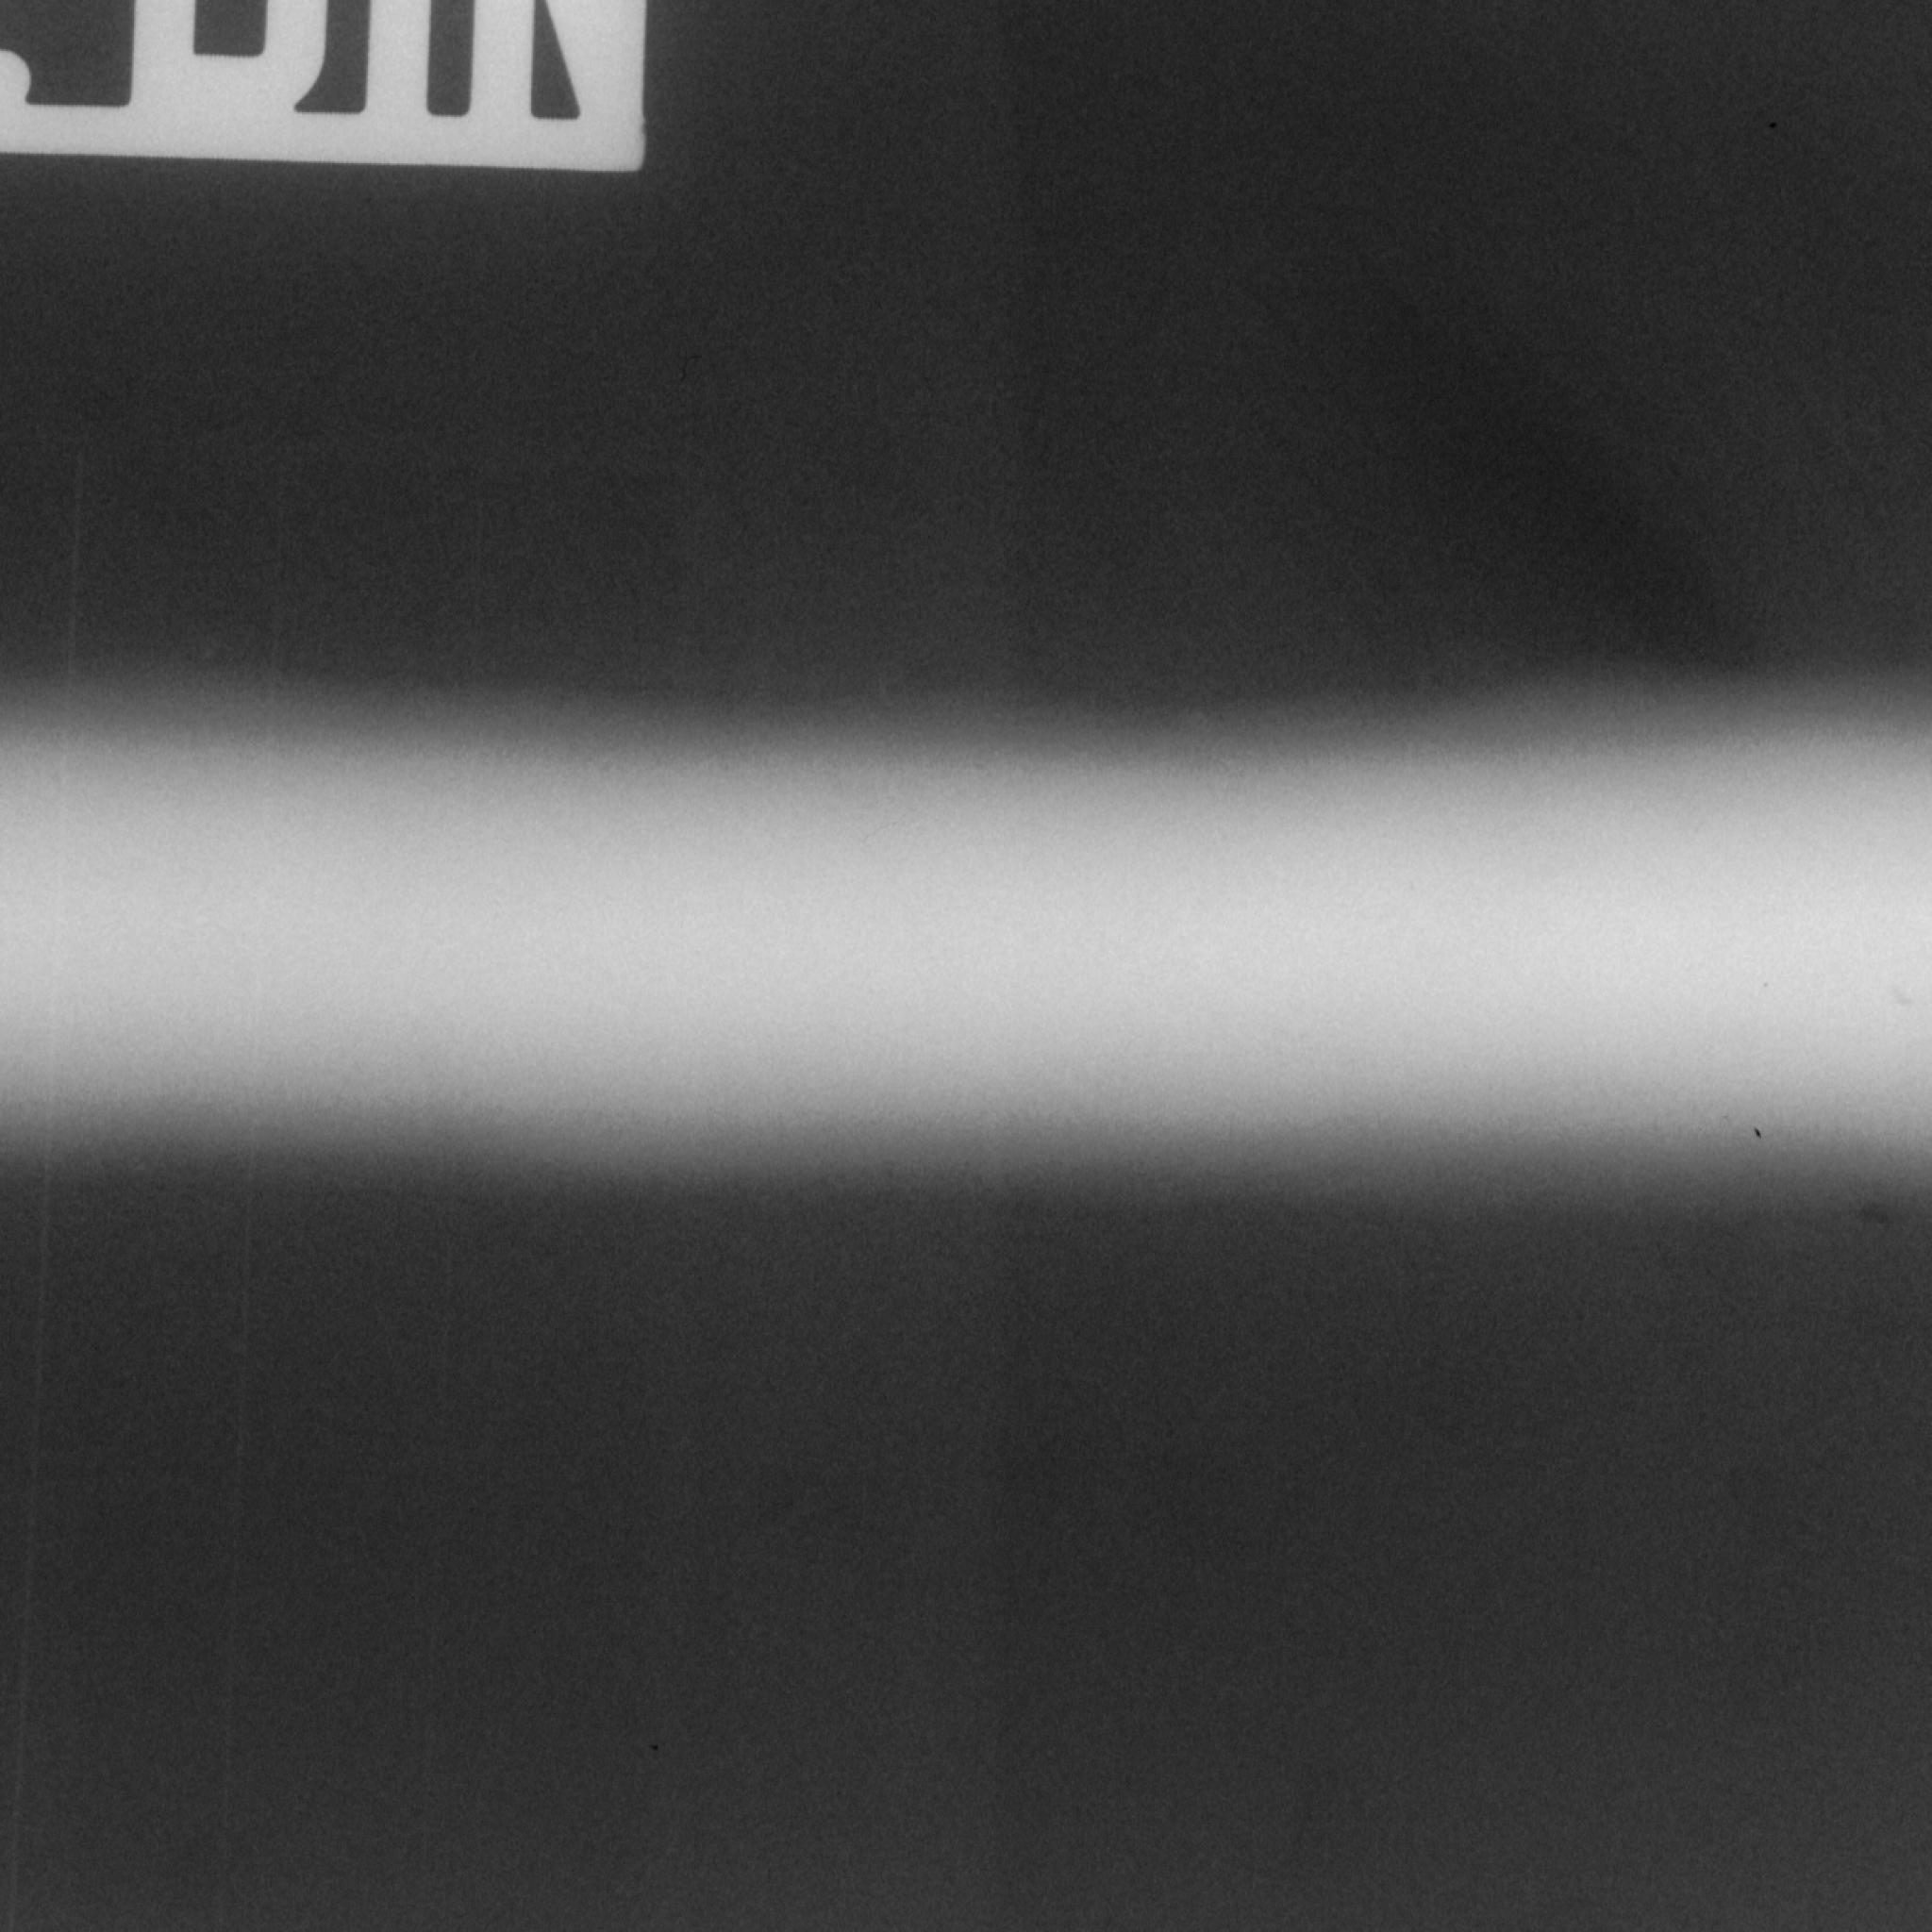Solda Ruim: (0, 600, 1932, 1311)
